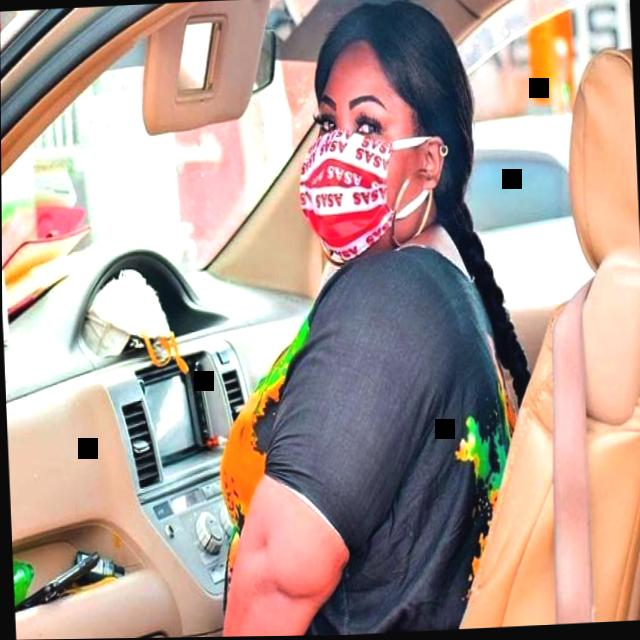Mask: (294, 55, 409, 267)
